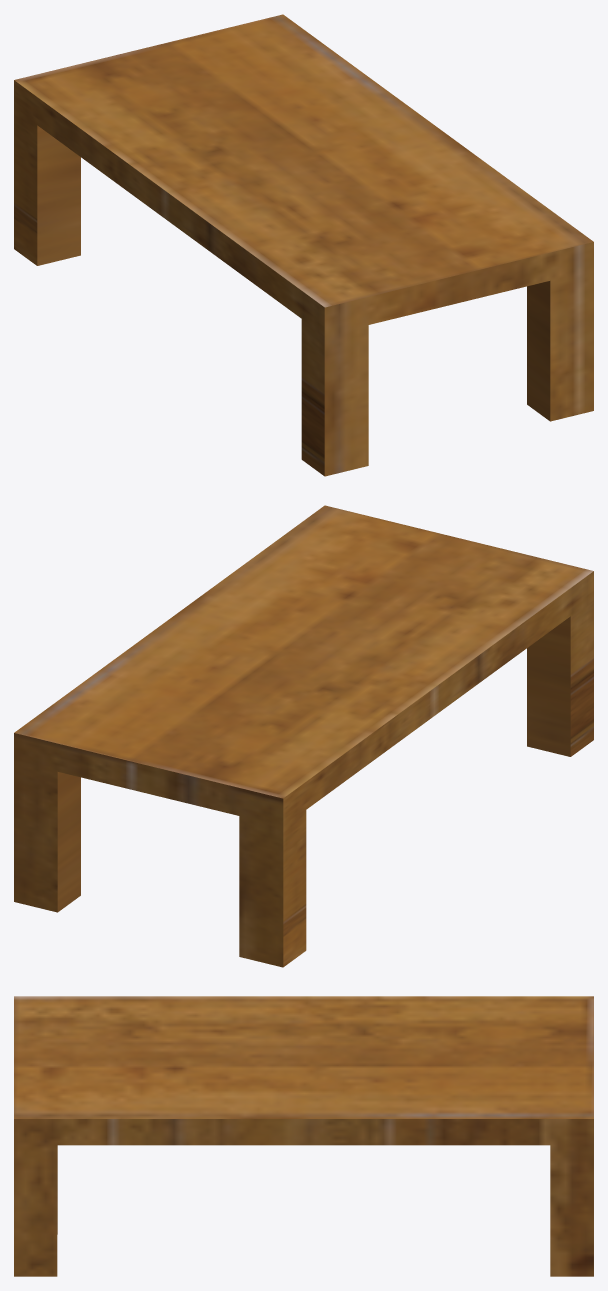
Rendered from coffeeTable.fbx.
3 views of the same model, one above another, from view 1: azimuth 30°, elevation 25°; view 2: azimuth 150°, elevation 25°; view 3: azimuth 270°, elevation 25° (orthographic). The views are drawn at different scales.
Visible parts, largest first — view 1: Cube; view 2: Cube; view 3: Cube.
Part boxes in pixels (left/top/right/bottom): Cube: left=14, top=14, right=593, bottom=476; Cube: left=14, top=505, right=593, bottom=967; Cube: left=14, top=996, right=593, bottom=1276.
Size of the model in its own units: 200 by 120 by 400.
